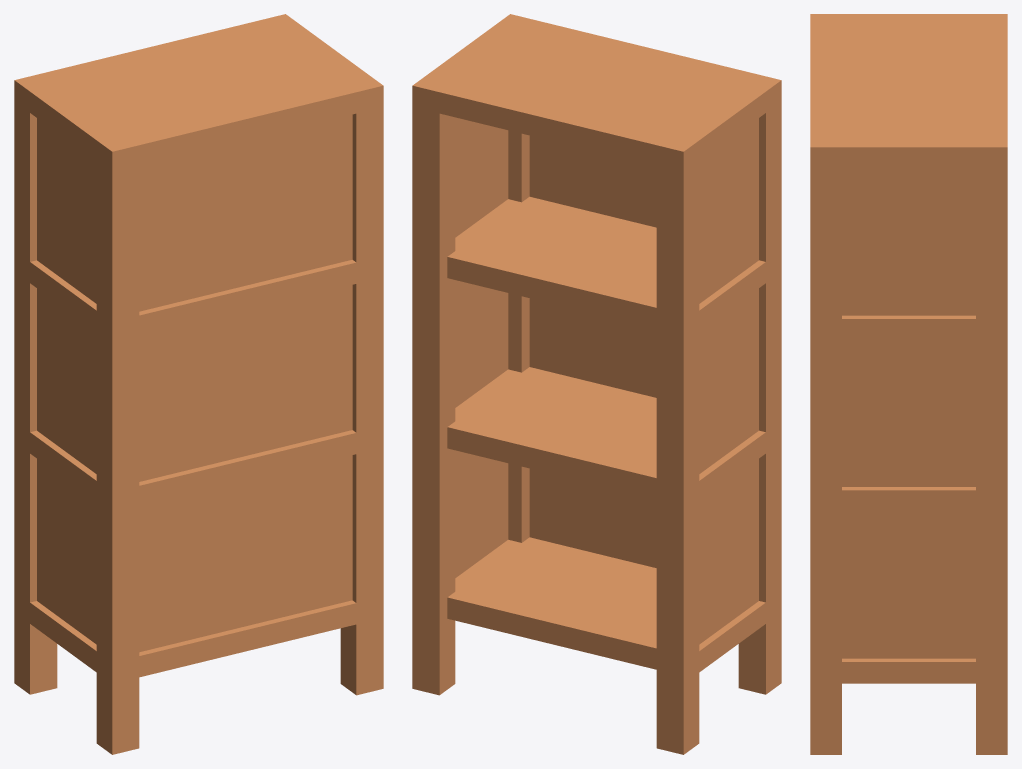
Rendered from BookcaseClosed.glb.
3 renders of one model, left to right at view 1: azimuth 30°, elevation 25°; view 2: azimuth 150°, elevation 25°; view 3: azimuth 270°, elevation 25°, orthographic.
Parts seen in each view (by area): view 1: BookcaseClosed; view 2: BookcaseClosed; view 3: BookcaseClosed.
Part boxes in pixels (x1,y1,x2,y2): BookcaseClosed: (14,14,383,754); BookcaseClosed: (412,14,781,754); BookcaseClosed: (810,14,1007,754).
Size of the model in its own units: 0.785 by 1.67 by 0.4906.
